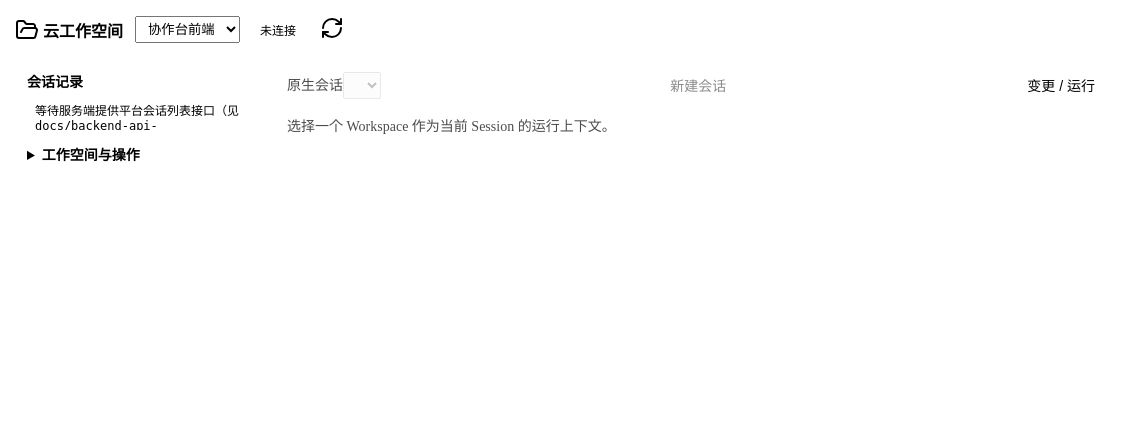
Scenario: CloudWorkspacesView › shows the changes diff with baseline and current revision
Click the button with aria-label "打开变更与运行面板" at (1061, 85), box [1015, 71, 1107, 99]
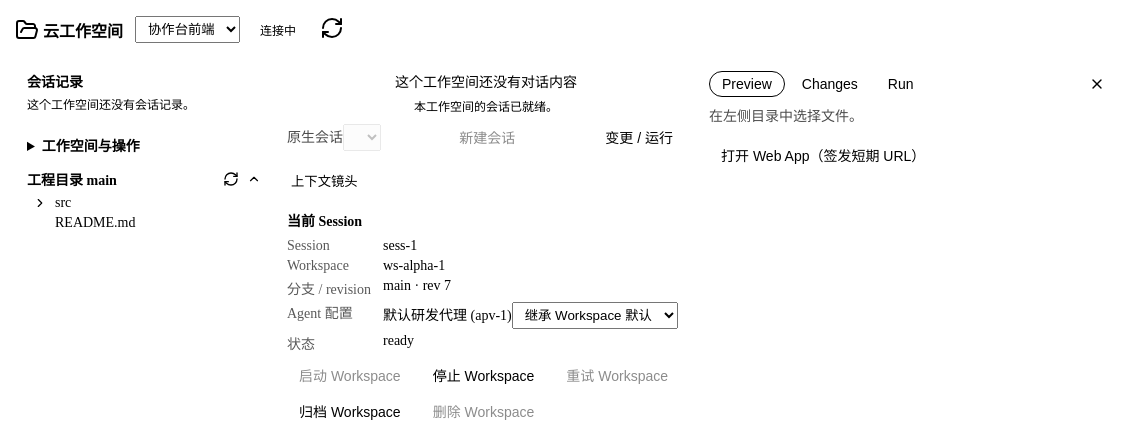
Click the tab "Changes" at (830, 84), box [789, 71, 871, 97]
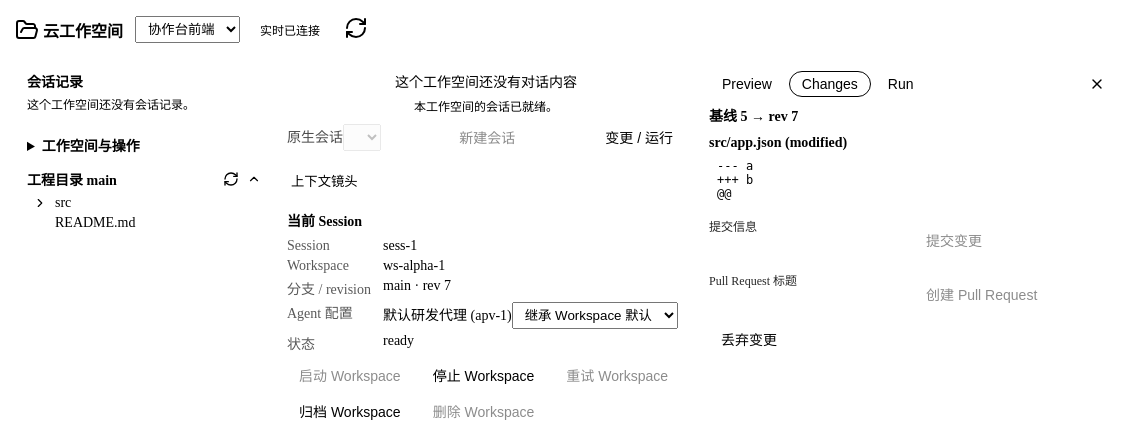
Expected: the text "基线 5 → rev 7" is shown, [709, 109, 798, 124]
Expected: the text "src/app.json (modified)" is shown, [709, 135, 847, 150]
